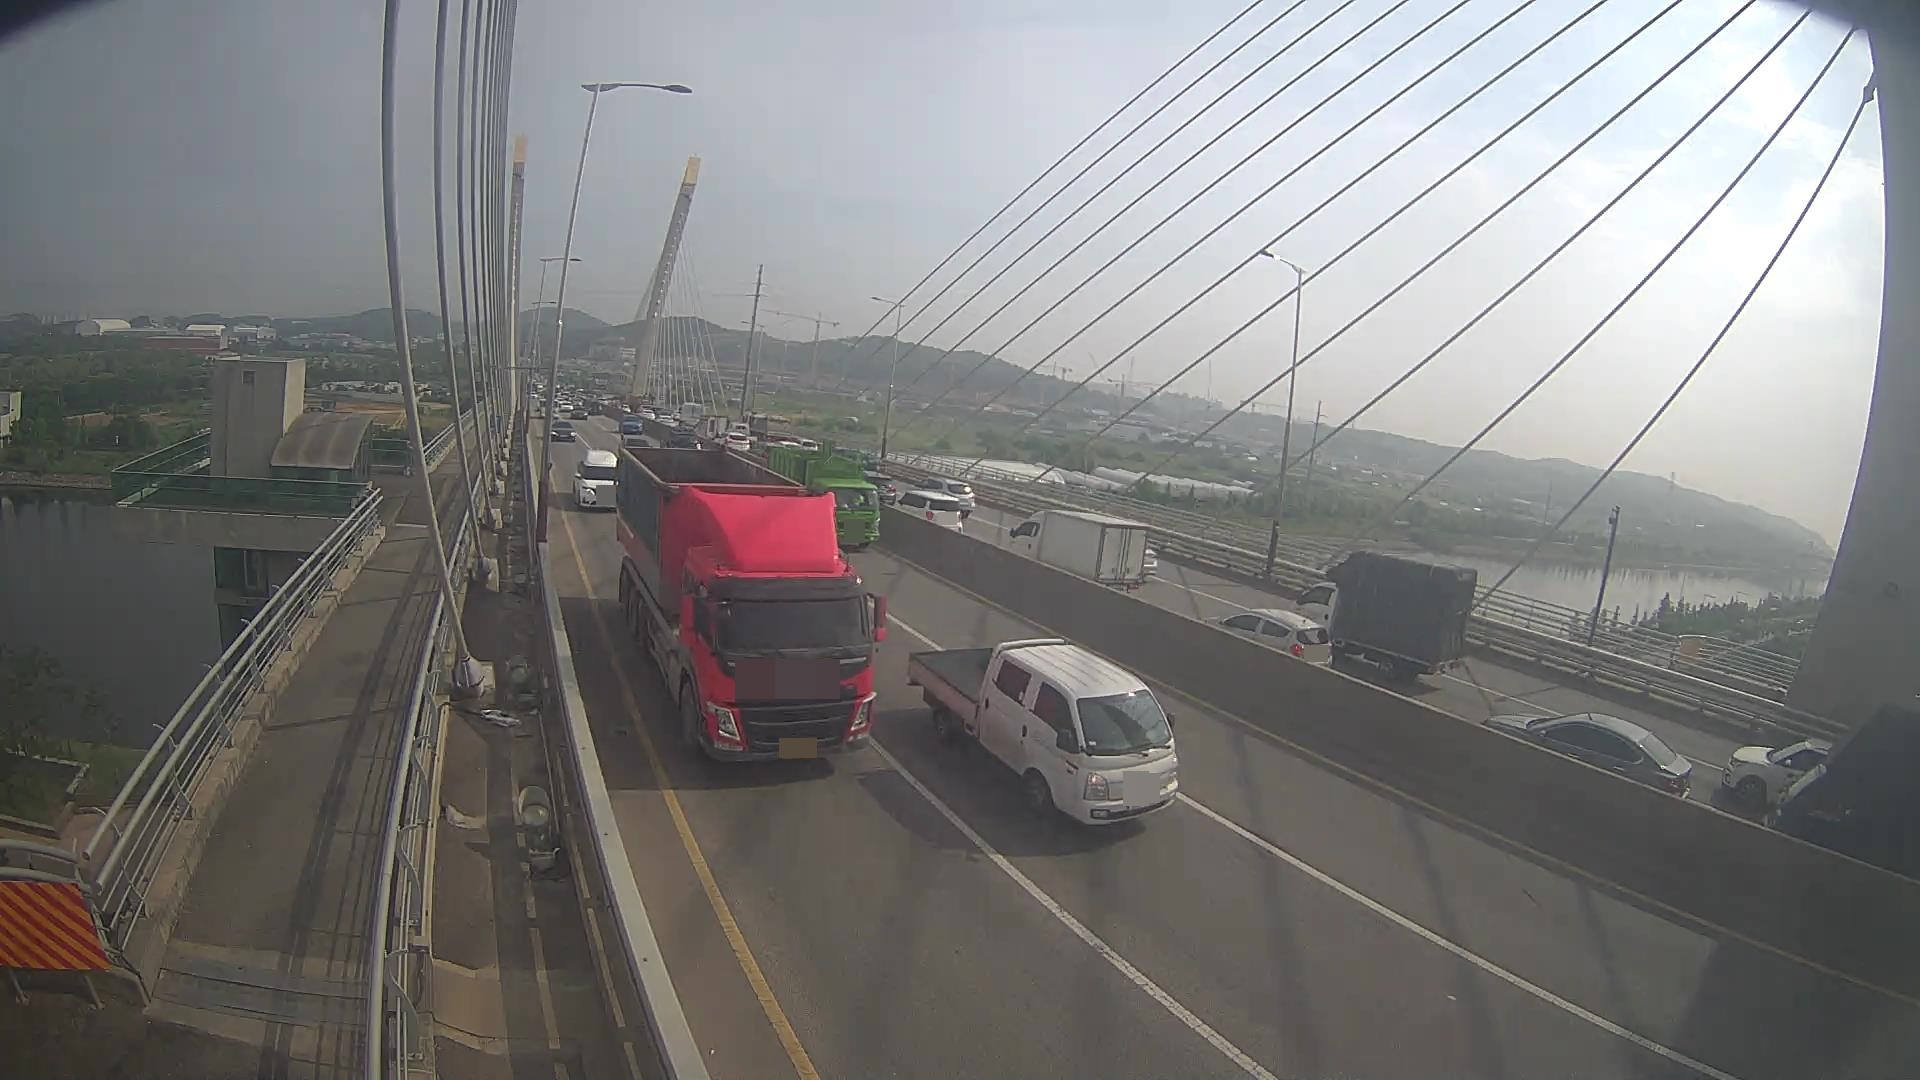정상차량: (615, 438, 886, 764)
